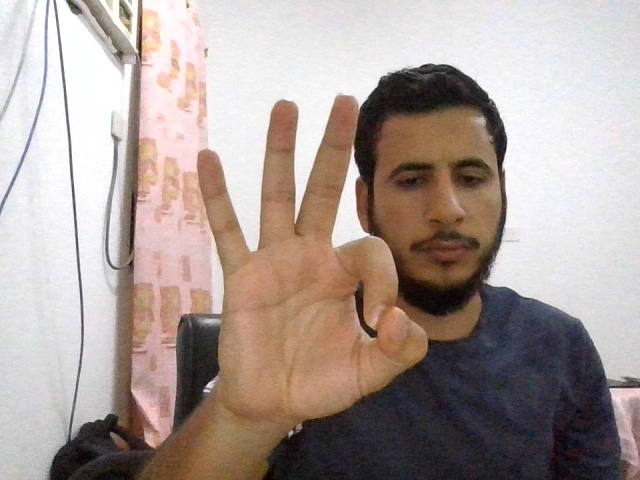Three: (196, 94, 429, 420)
